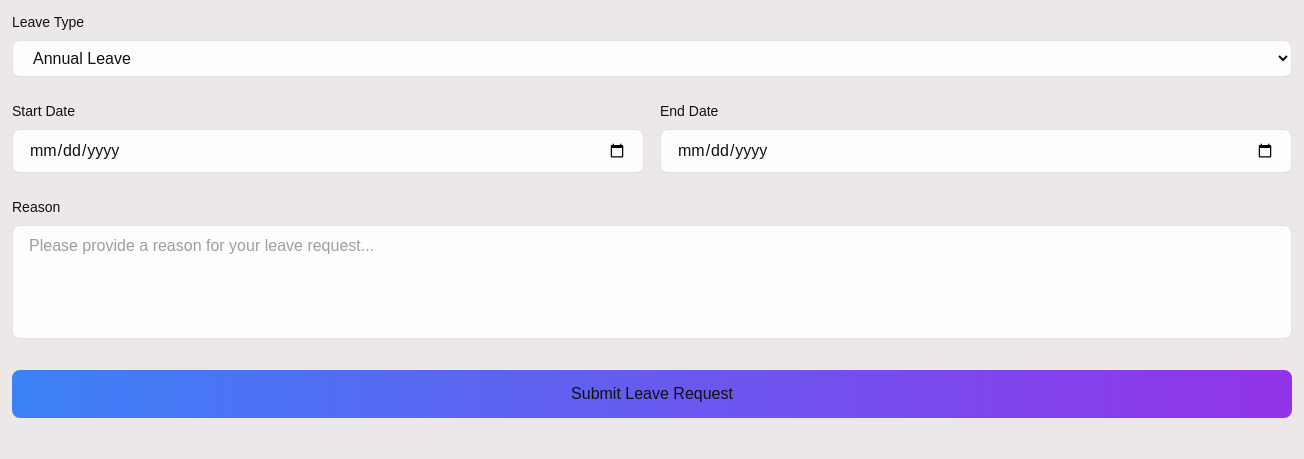
LeaveRequestForm › Form Validation › should clear error when field is corrected
# Submit with invalid dates
Type "2024-12-31" into the date field labelled "Start Date". click: point(328, 151)
box: x1=12 y1=129 x2=644 y2=173
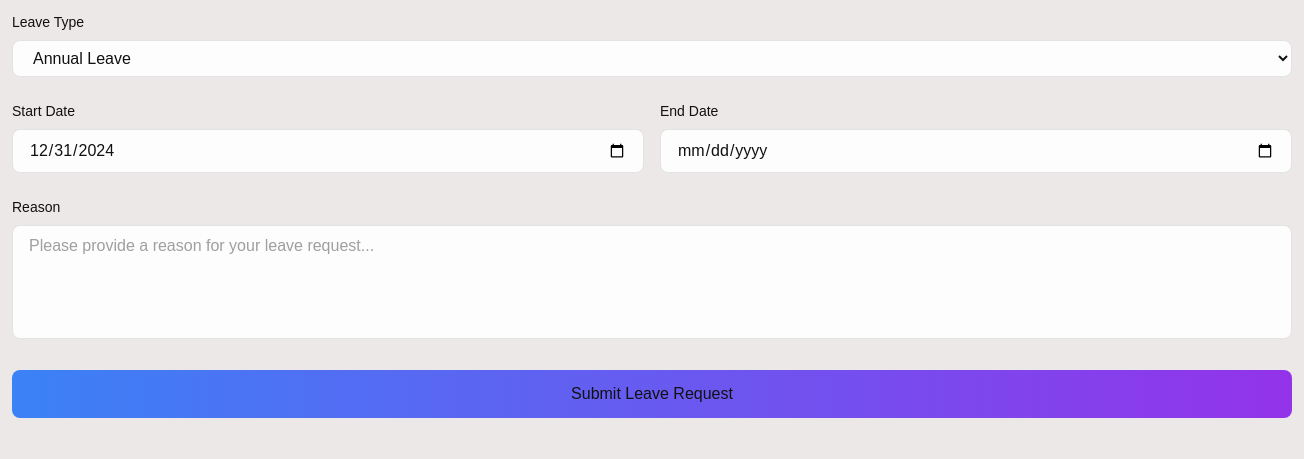
Type "2024-12-01" into the date field labelled "End Date". click: point(976, 151)
box: x1=660 y1=129 x2=1292 y2=173
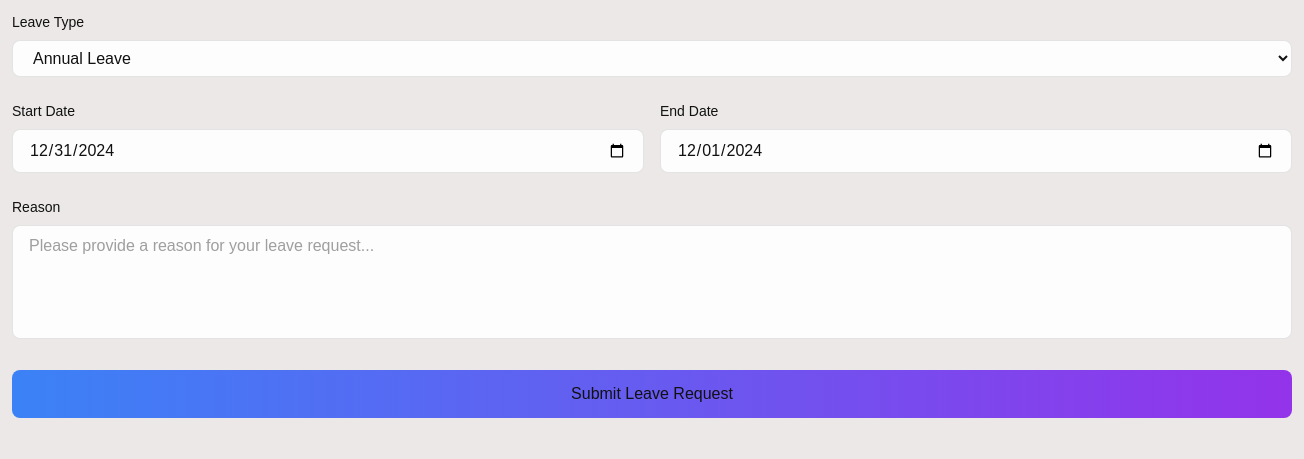
Type "Test reason" into the text box labelled "Reason". click: point(652, 282)
box: x1=12 y1=225 x2=1292 y2=339
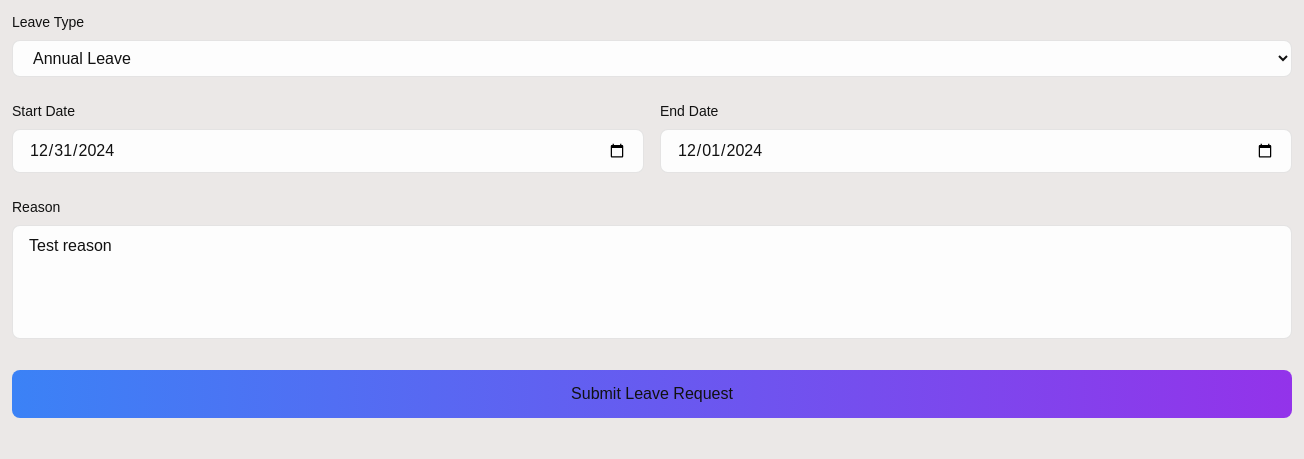
Click the button "Submit Leave Request". click: point(652, 394)
box: x1=12 y1=370 x2=1292 y2=418
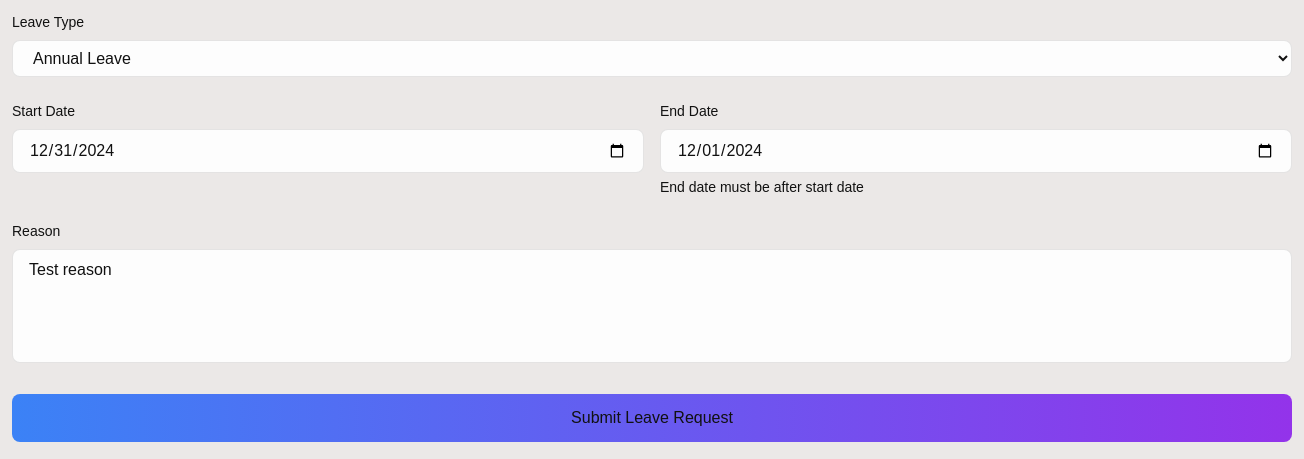
Now the text "End date must be after start date" is shown, box x1=660 y1=179 x2=864 y2=195
# Correct the end date
Type "2025-01-05" into the date field labelled "End Date". click: point(976, 151)
box: x1=660 y1=129 x2=1292 y2=173
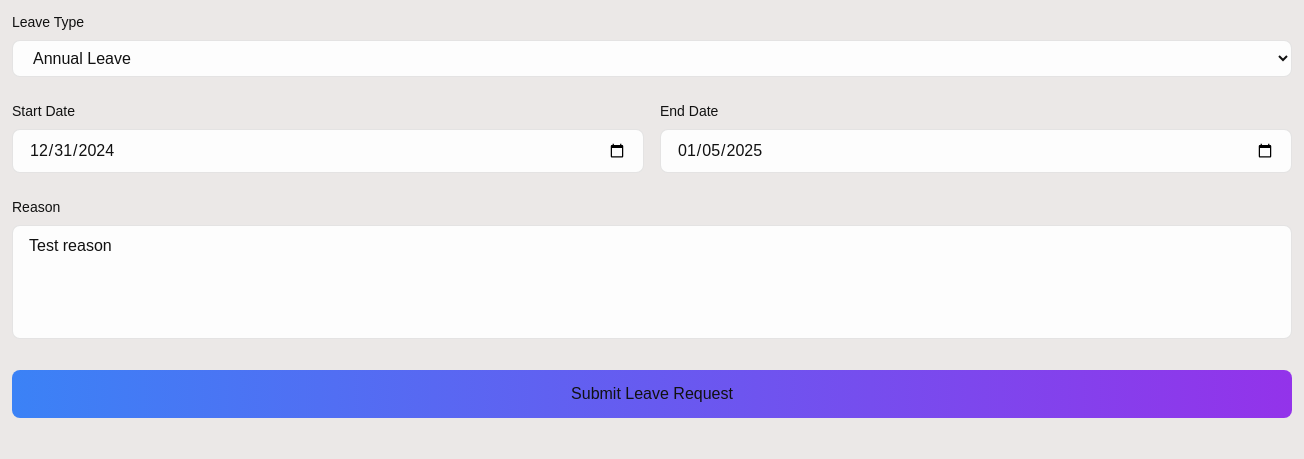
Now the text "End date must be after start date" is gone
